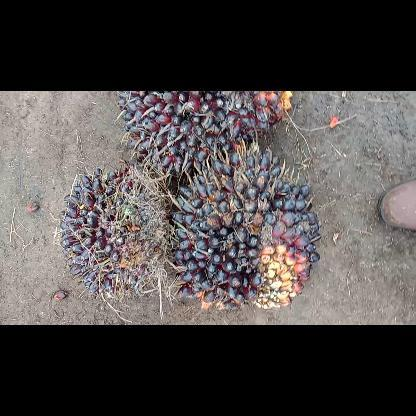TBS mentah: (167, 145, 323, 313), (54, 164, 172, 298), (113, 90, 295, 176)
